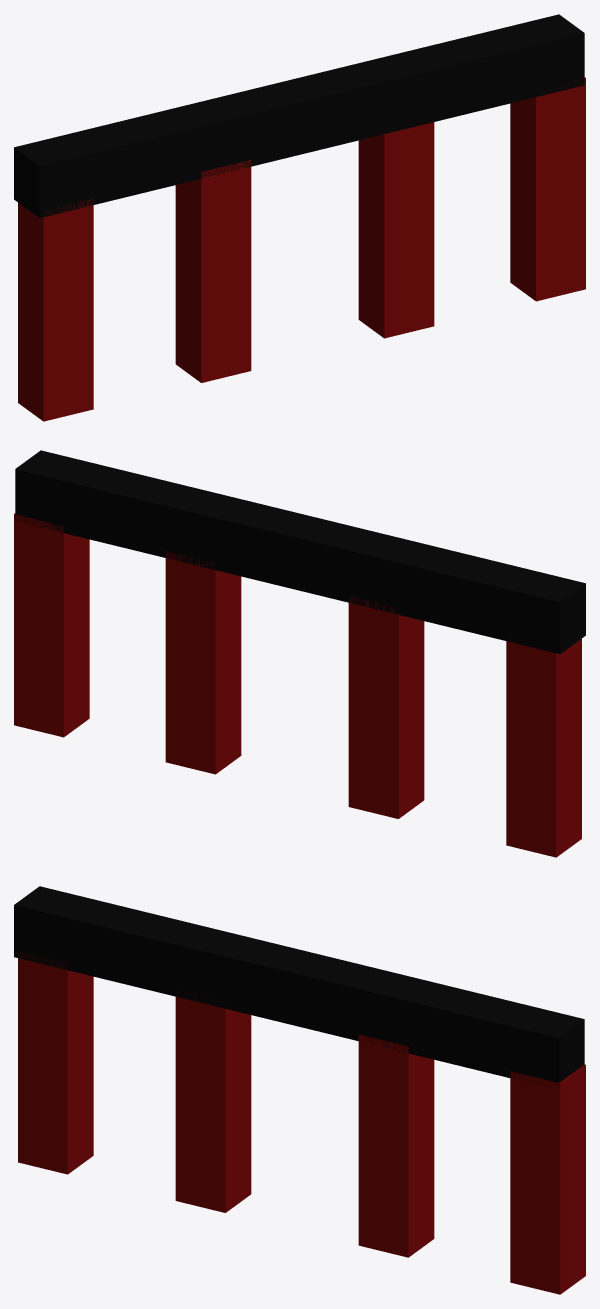
Rendered from Fence.fbx.
The picture shows the model from 3 angles, top to bottom: view 1: azimuth 30°, elevation 25°; view 2: azimuth 150°, elevation 25°; view 3: azimuth 330°, elevation 25°; orthographic projection.
Parts seen in each view (by area): view 1: pCube4, pCube3, pCube5, pCube2, pCube1; view 2: pCube4, pCube3, pCube2, pCube1, pCube5; view 3: pCube4, pCube1, pCube2, pCube3, pCube5.
Boxes of the visible parts, bbox=[...] form: pCube4: bbox=[14, 14, 584, 218]; pCube3: bbox=[175, 160, 251, 382]; pCube5: bbox=[18, 198, 93, 421]; pCube2: bbox=[358, 122, 434, 338]; pCube1: bbox=[510, 77, 585, 301]; pCube4: bbox=[15, 450, 585, 654]; pCube3: bbox=[348, 596, 424, 818]; pCube2: bbox=[165, 551, 241, 774]; pCube1: bbox=[14, 513, 89, 737]; pCube5: bbox=[506, 634, 581, 857]; pCube4: bbox=[14, 886, 584, 1086]; pCube1: bbox=[510, 1064, 585, 1294]; pCube2: bbox=[358, 1034, 434, 1257]; pCube3: bbox=[175, 990, 251, 1212]; pCube5: bbox=[18, 952, 93, 1174].
Size of the model in its own units: 6.96 by 3.12 by 0.5667.
